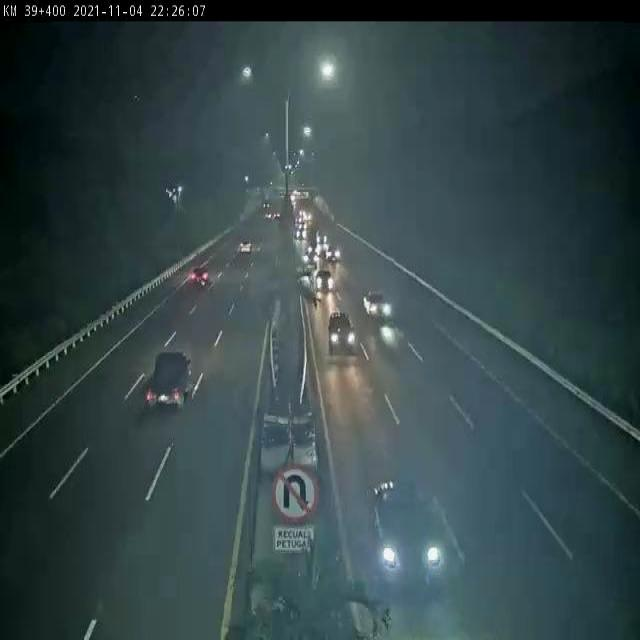Car: (359, 473, 455, 608), (318, 308, 367, 367), (188, 258, 223, 301), (363, 287, 397, 330), (233, 225, 260, 271), (312, 260, 340, 298), (326, 242, 344, 266)
Truck: (134, 344, 209, 431)
